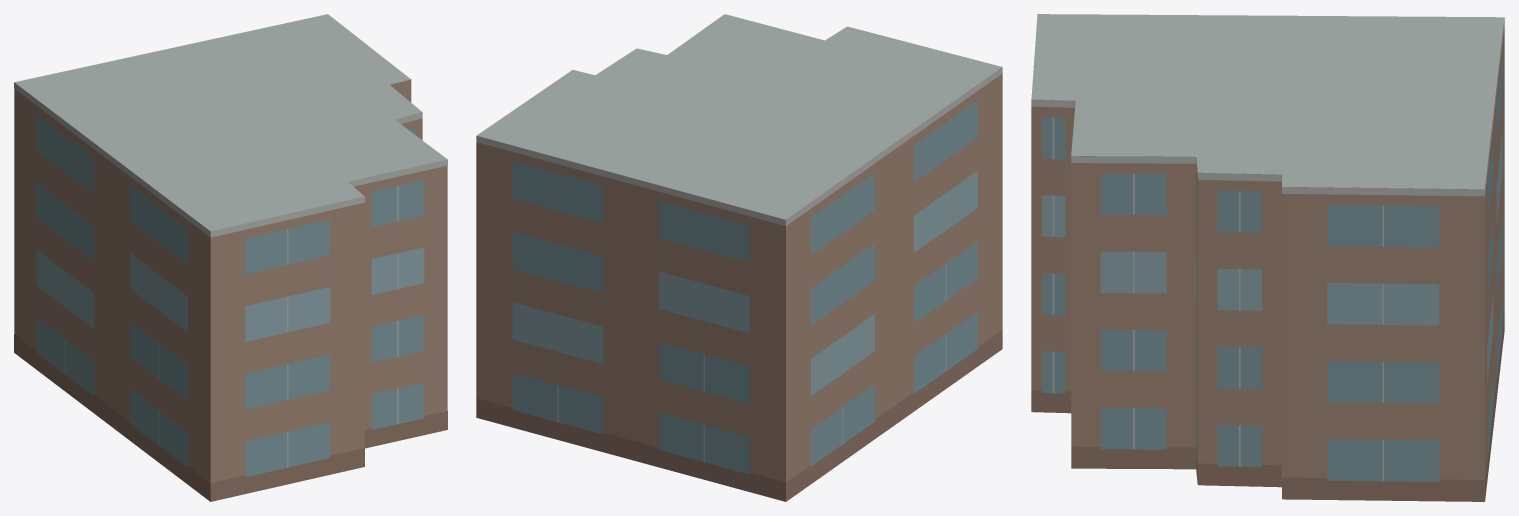
File: survey-upis-32469814.glb
The picture shows the model from 3 angles, left to right: view 1: azimuth 30°, elevation 25°; view 2: azimuth 150°, elevation 25°; view 3: azimuth 270°, elevation 25°; orthographic projection. The views are drawn at different scales.
Visible parts, largest first — view 1: survey-upis-32469814.tmp; view 2: survey-upis-32469814.tmp; view 3: survey-upis-32469814.tmp.
Part boxes in pixels (x1,y1,x2,y2): survey-upis-32469814.tmp: [14, 14, 447, 501]; survey-upis-32469814.tmp: [476, 14, 1002, 501]; survey-upis-32469814.tmp: [1031, 14, 1504, 501].
Size of the model in its own units: 13 by 10.8 by 14.83.
